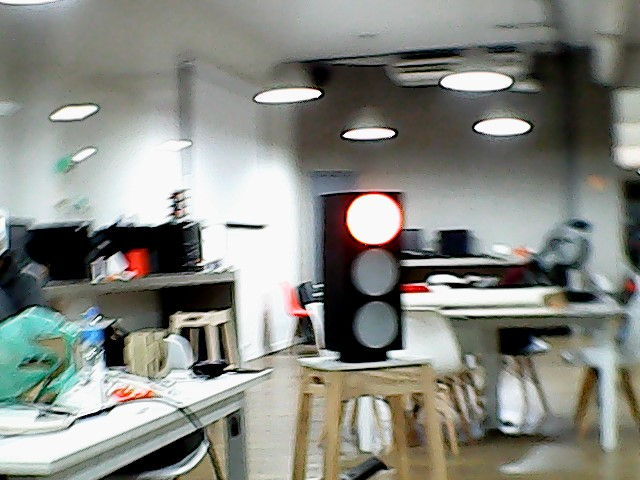vermelho: (322, 189, 405, 357)
